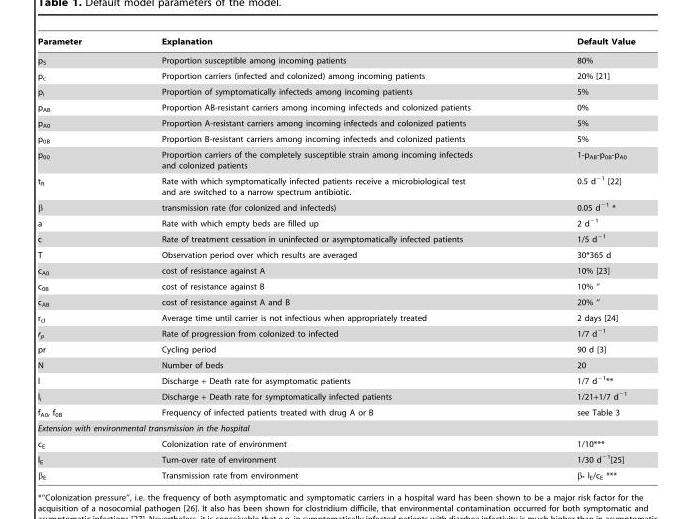table: (37, 36, 634, 480)
table column: (120, 36, 524, 480), (524, 36, 634, 480), (37, 36, 120, 480)
table column header: (37, 36, 634, 50)
table projected row header: (37, 420, 634, 435)
table row: (37, 172, 634, 198), (37, 147, 634, 172), (37, 50, 634, 68), (37, 387, 634, 404), (37, 68, 634, 84), (37, 99, 634, 115), (37, 115, 634, 131), (37, 131, 634, 147), (37, 198, 634, 214), (37, 214, 634, 230), (37, 230, 634, 246), (37, 246, 634, 262), (37, 262, 634, 278), (37, 278, 634, 294), (37, 294, 634, 310), (37, 325, 634, 341), (37, 341, 634, 357), (37, 371, 634, 387), (37, 404, 634, 420), (37, 435, 634, 451), (37, 451, 634, 467), (37, 84, 634, 99), (37, 310, 634, 325), (37, 420, 634, 435), (37, 36, 634, 50), (37, 357, 634, 371), (37, 467, 634, 480)
